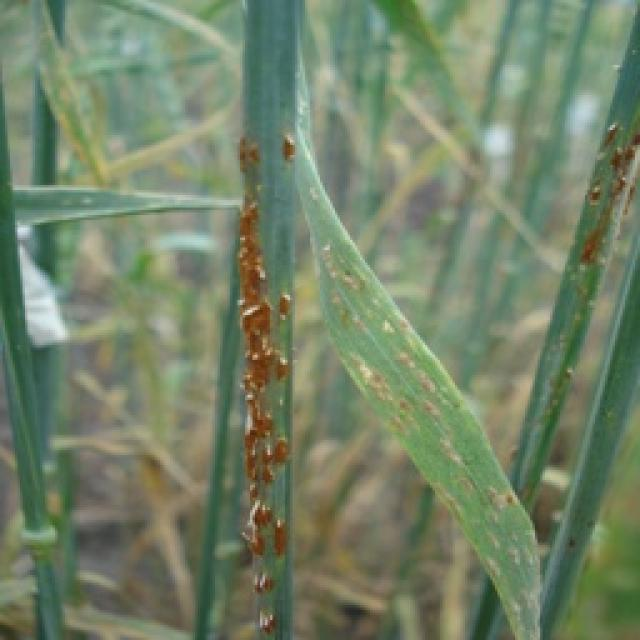Brown Rust: (230, 132, 295, 638)
Healthy Wheat: (0, 0, 638, 638)
